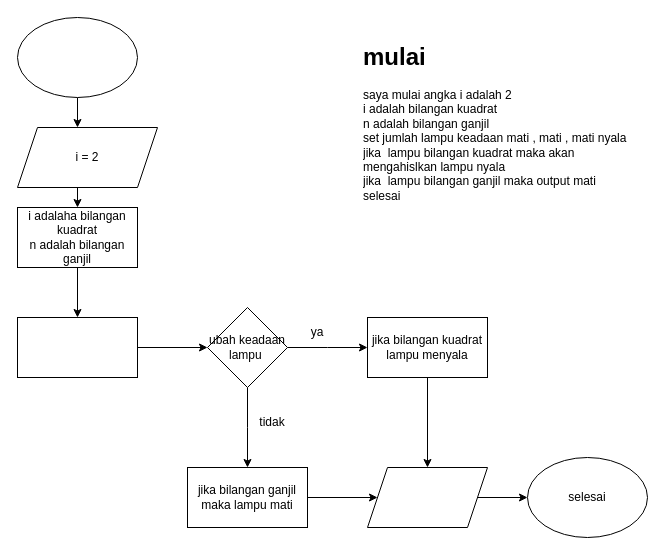
This 665x555 diagram has some shape labels left out. The centre of each missing label's shape, as x and y in pixels:
"hasil output" goes at (x=427, y=497).
"mulai" goes at (x=77, y=57).
"set jumlaah lampu keadaan (mati,mati,nyala , mati , nyala)" goes at (x=77, y=347).
